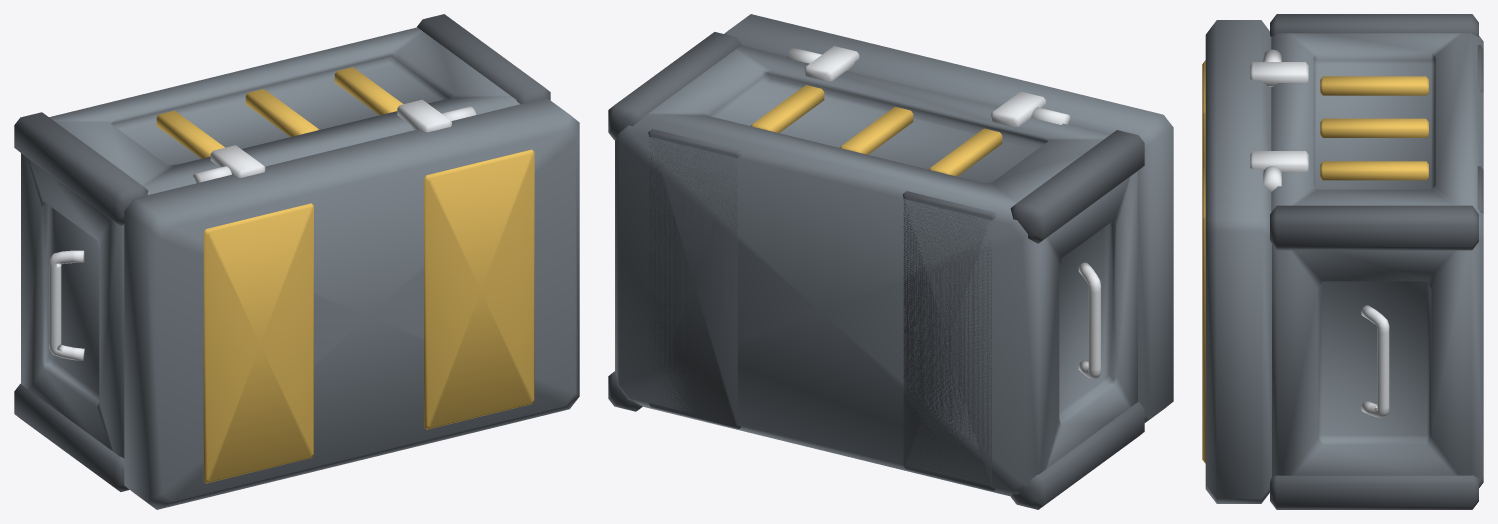
Rendered from sci_fi_crate.glb.
3 renders of one model, left to right at view 1: azimuth 30°, elevation 25°; view 2: azimuth 150°, elevation 25°; view 3: azimuth 270°, elevation 25°, orthographic. The views are drawn at different scales.
Visible parts, largest first — view 1: lid, armored_hull_0, bumper_-1_1_3, bumper_-1_-1_2, bumper_1_1_6, side_handle_-1_17, rib_1_0_13, rib_1_1_14, rib_1_-1_12, latch_1_0.19_16, latch_1_-0.19_15; view 2: armored_hull_0, skid_-1_1, lid, skid_1_4, bumper_-1_1_3, bumper_-1_-1_2, bumper_1_1_6, side_handle_-1_17, rib_1_1_14, rib_1_-1_12, rib_1_0_13, latch_1_0.19_16 (+1 smaller); view 3: armored_hull_0, lid, bumper_1_1_6, bumper_1_-1_5, bumper_-1_1_3, rib_1_-1_12, rib_1_1_14, rib_1_0_13, side_handle_1_18, latch_1_-0.19_15, latch_1_0.19_16, hinge_barrel_0.24_24.
Boxes of the visible parts, x1,y1,x2,y2 form: lid: (124, 98, 579, 509); armored_hull_0: (21, 27, 519, 458); bumper_-1_1_3: (14, 112, 148, 225); bumper_-1_-1_2: (14, 383, 129, 491); bumper_1_1_6: (417, 14, 550, 104); side_handle_-1_17: (49, 250, 84, 360); rib_1_0_13: (245, 89, 319, 136); rib_1_1_14: (334, 67, 403, 115); rib_1_-1_12: (156, 110, 224, 158); latch_1_0.19_16: (397, 99, 451, 132); latch_1_-0.19_15: (210, 145, 265, 177); armored_hull_0: (615, 45, 1137, 496); skid_-1_1: (902, 191, 995, 490); lid: (724, 14, 1173, 422); skid_1_4: (648, 129, 741, 428); bumper_-1_1_3: (1010, 130, 1144, 243); bumper_-1_-1_2: (1010, 401, 1144, 509); bumper_1_1_6: (608, 32, 741, 140); side_handle_-1_17: (1078, 262, 1100, 379); rib_1_1_14: (750, 85, 824, 132); rib_1_-1_12: (928, 128, 1002, 176); rib_1_0_13: (839, 106, 913, 154); latch_1_0.19_16: (804, 46, 859, 81); armored_hull_0: (1271, 33, 1483, 487); lid: (1202, 20, 1271, 503); bumper_1_1_6: (1270, 205, 1478, 250); bumper_1_-1_5: (1270, 475, 1478, 509); bumper_-1_1_3: (1270, 14, 1478, 36); rib_1_-1_12: (1320, 76, 1428, 95); rib_1_1_14: (1320, 161, 1428, 180); rib_1_0_13: (1320, 118, 1428, 137); side_handle_1_18: (1361, 305, 1389, 417); latch_1_-0.19_15: (1250, 62, 1308, 86); latch_1_0.19_16: (1250, 151, 1308, 171); hinge_barrel_0.24_24: (1263, 166, 1281, 192).
Size of the model in its own units: 0.926 by 0.596 by 0.506.
